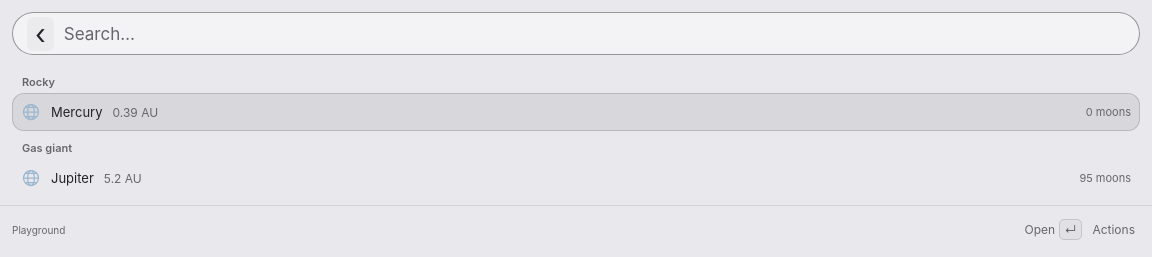
discards a delayed poll after a new search intent
Type "none" into the dropdown at (594, 34), box [64, 14, 1125, 54]
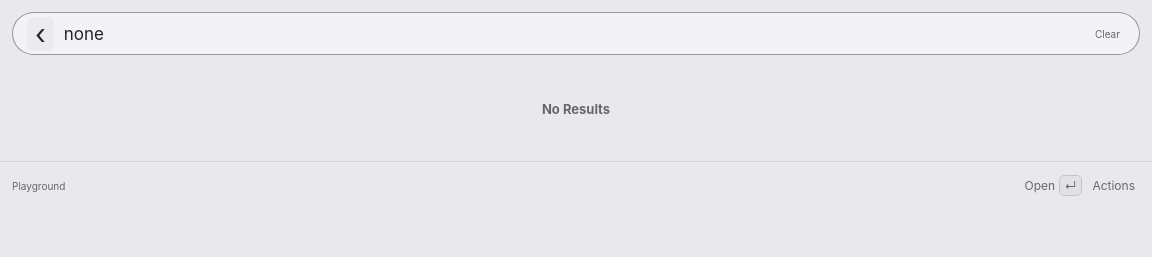
Expected: the text "No Results" is shown, [542, 101, 610, 117]
Expected: the option is gone
